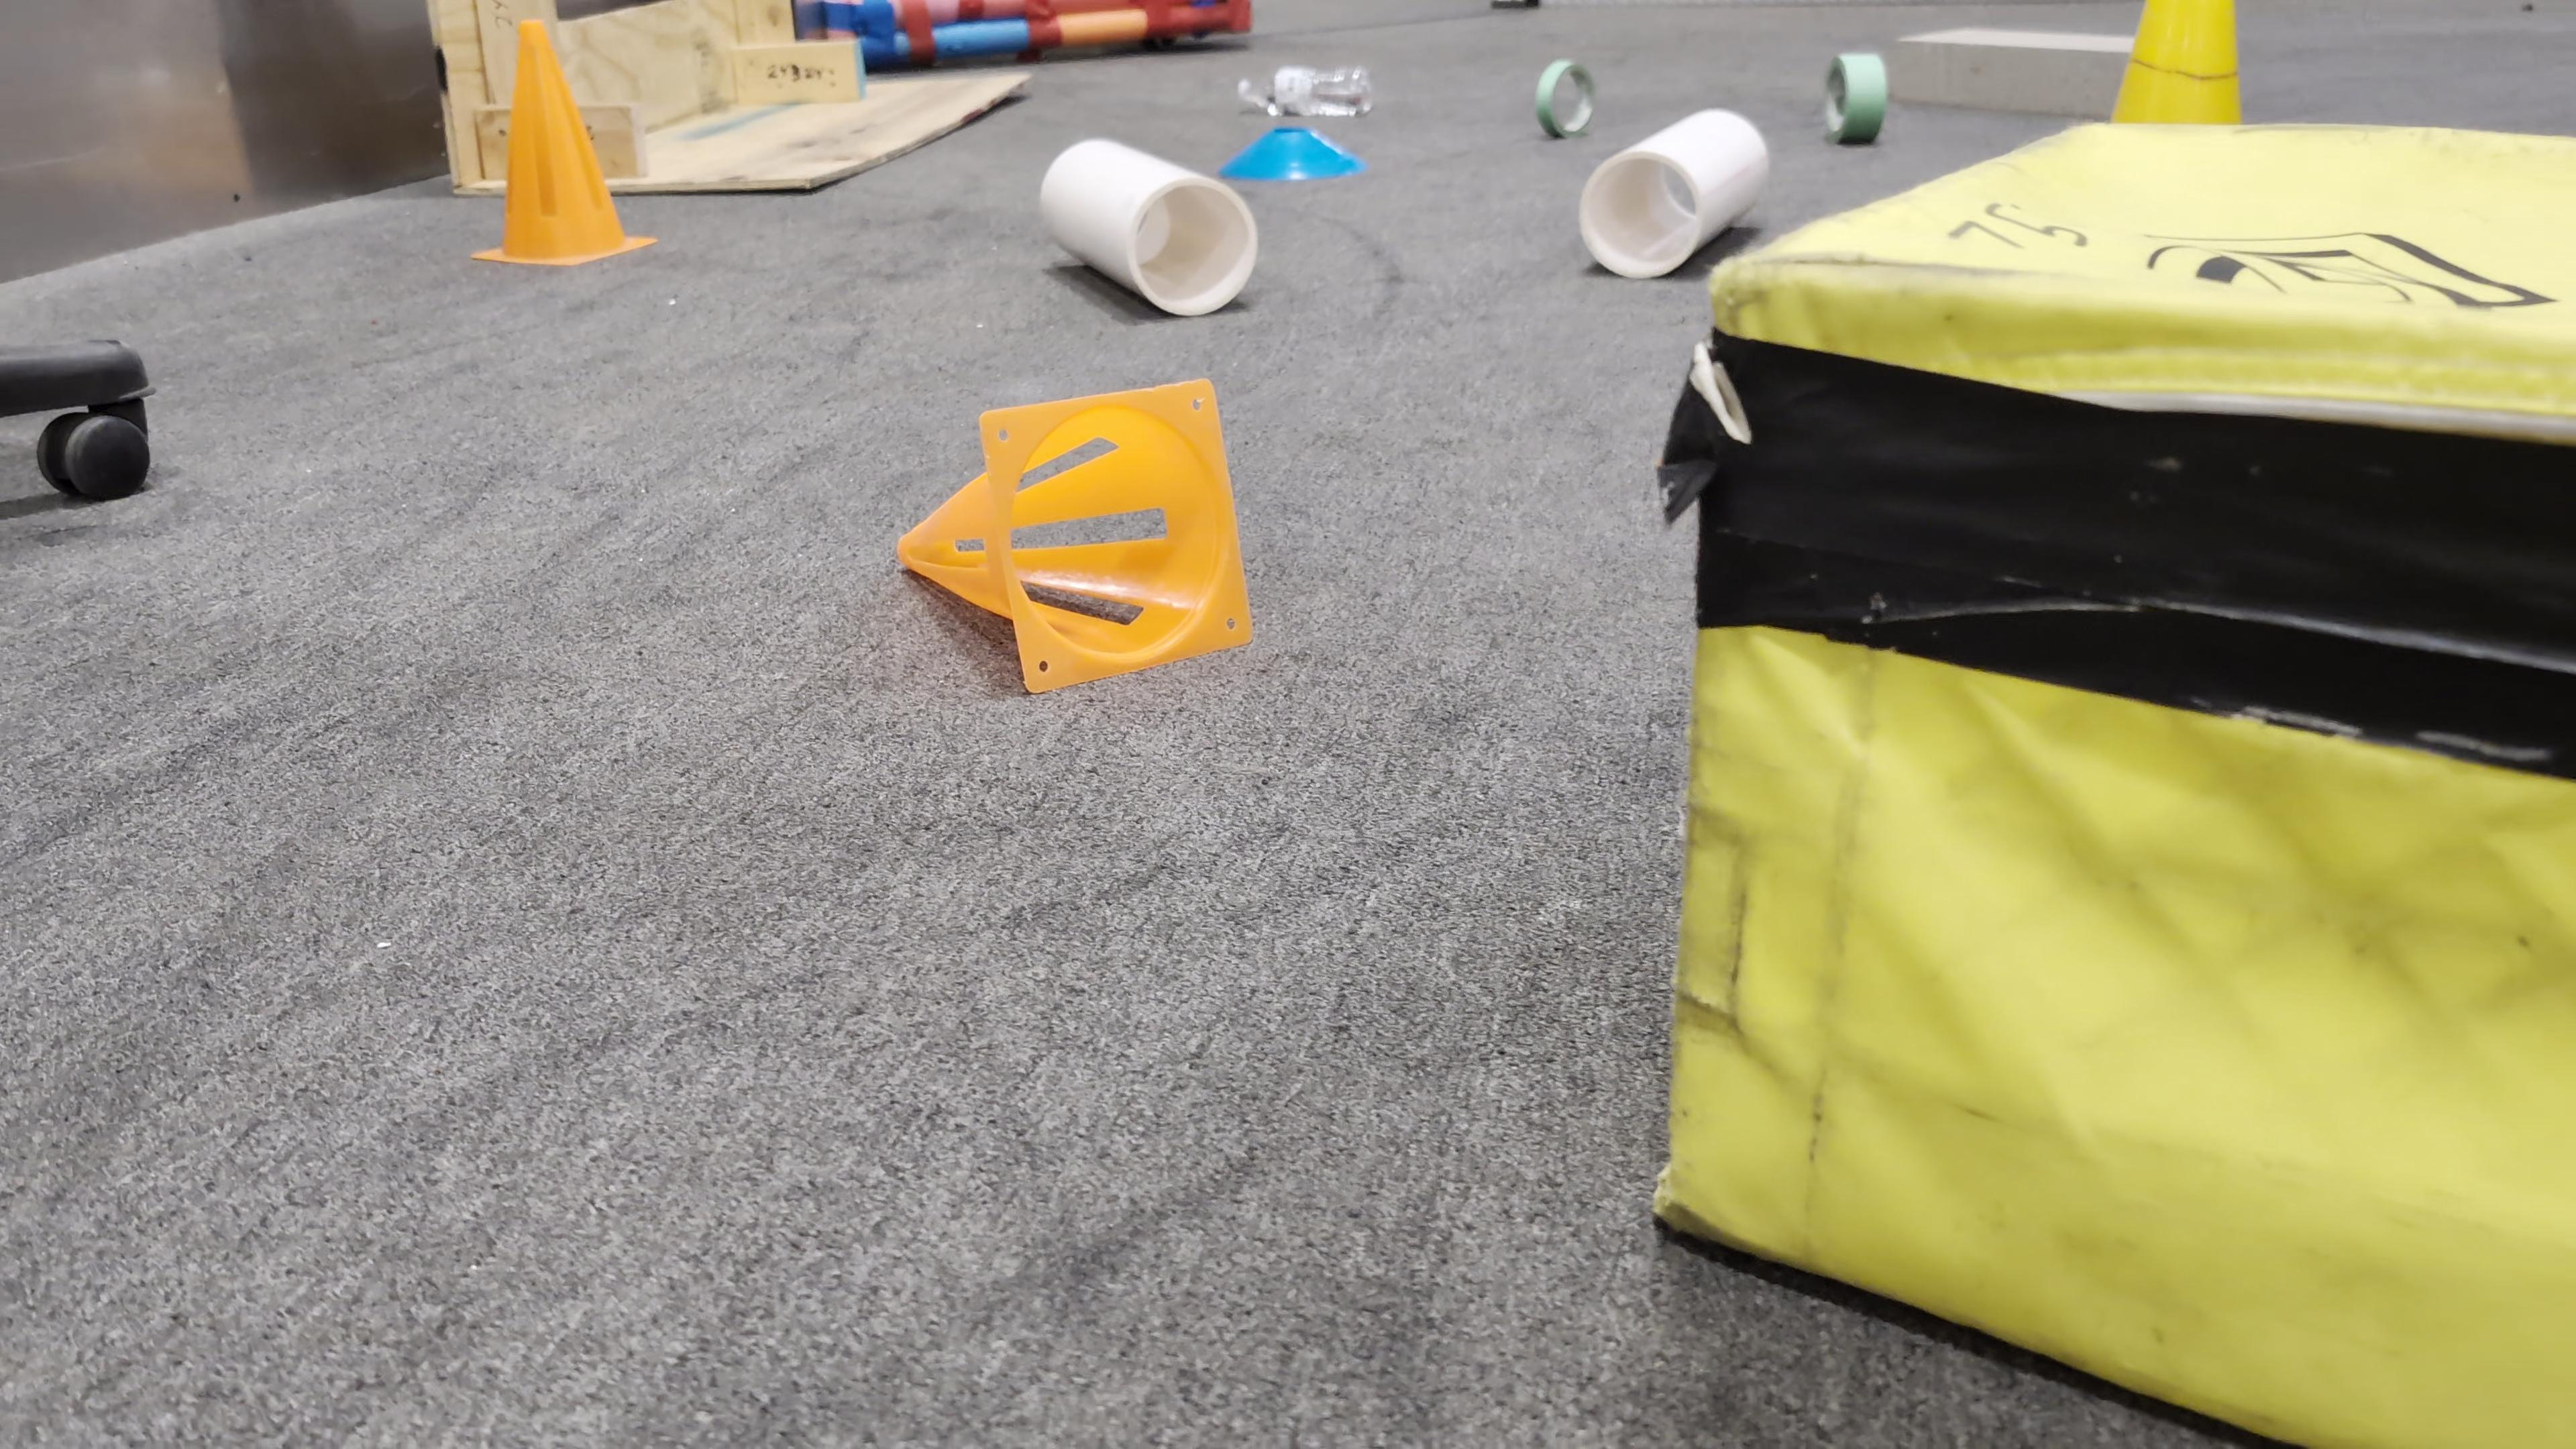coral: (1039, 131, 1258, 313), (1578, 103, 1771, 278)
